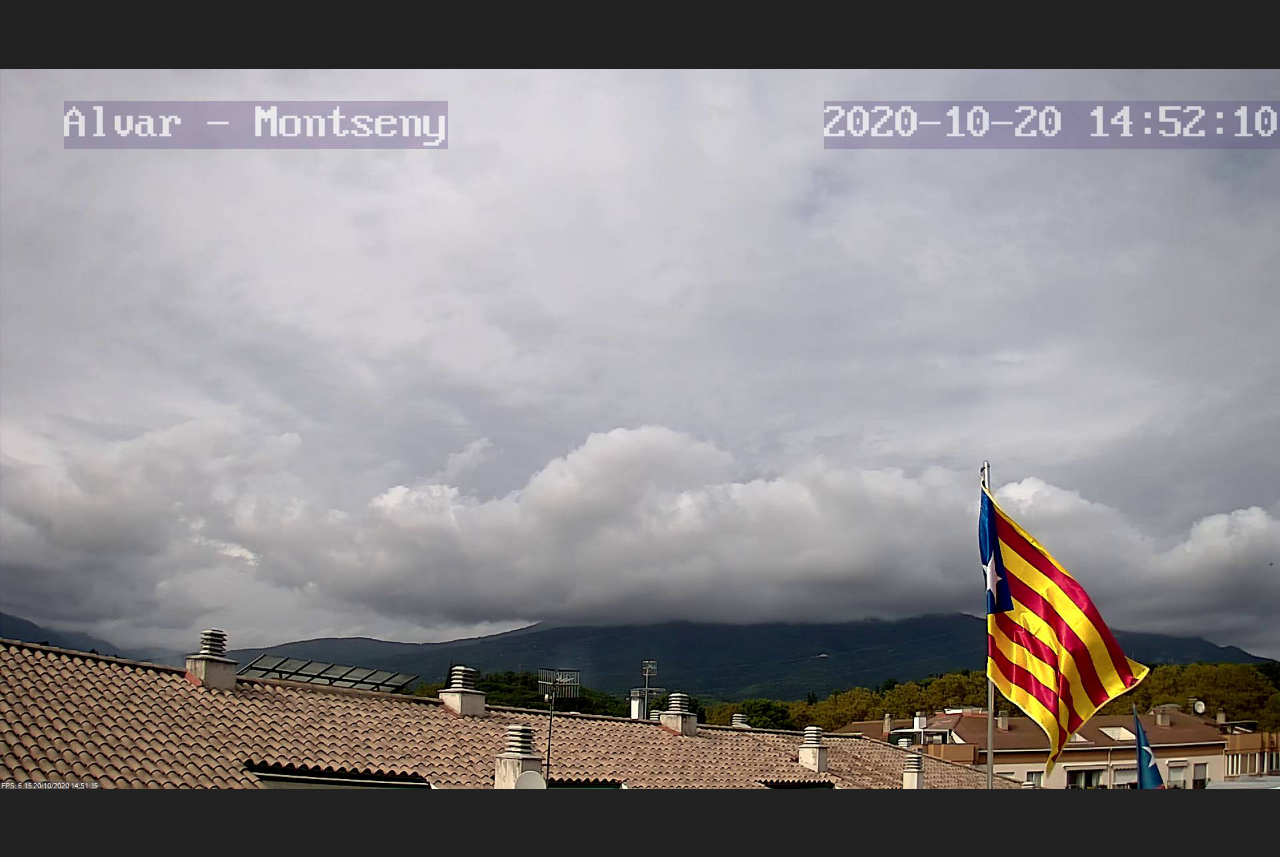maybe: (966, 486, 1152, 780)
